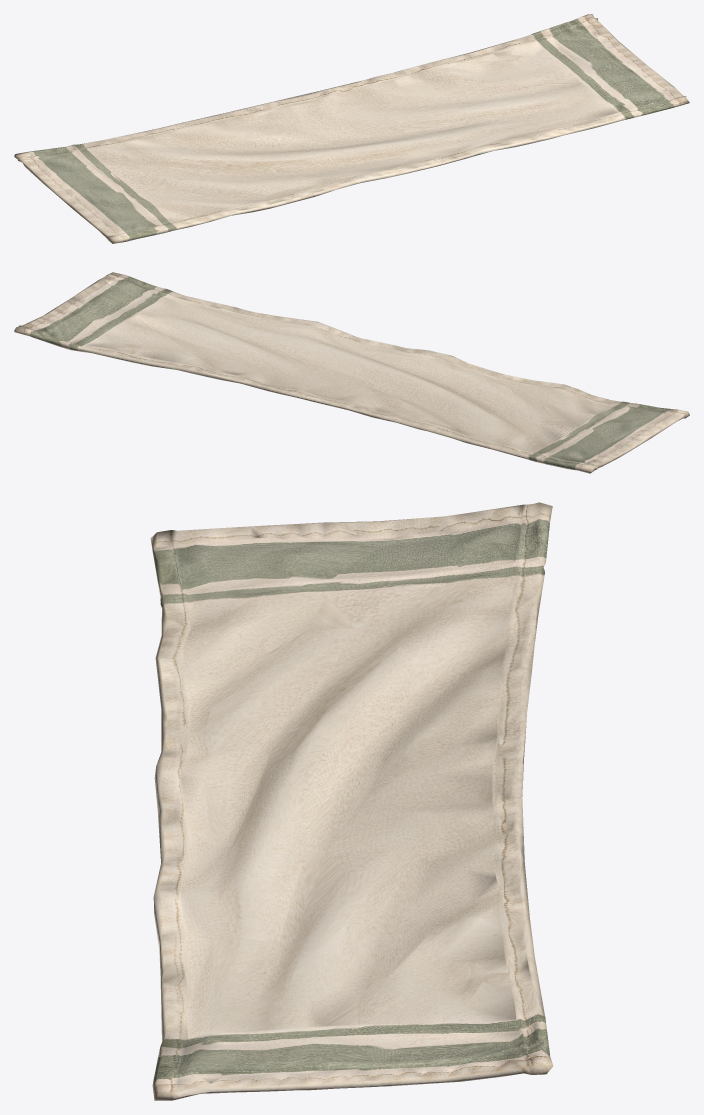
File: shade-panel-v1.glb
3 views of the same model, one above another, from view 1: azimuth 30°, elevation 25°; view 2: azimuth 150°, elevation 25°; view 3: azimuth 270°, elevation 25° (orthographic). The views are drawn at different scales.
Visible parts, largest first — view 1: tripo_node_cf18d350-cf17-49a6-b792-6ec16ebb6200; view 2: tripo_node_cf18d350-cf17-49a6-b792-6ec16ebb6200; view 3: tripo_node_cf18d350-cf17-49a6-b792-6ec16ebb6200.
Part boxes in pixels (x1,y1,x2,y2): tripo_node_cf18d350-cf17-49a6-b792-6ec16ebb6200: [14, 14, 689, 243]; tripo_node_cf18d350-cf17-49a6-b792-6ec16ebb6200: [14, 272, 689, 473]; tripo_node_cf18d350-cf17-49a6-b792-6ec16ebb6200: [150, 502, 553, 1100].
Size of the model in its own units: 2 by 0.0782 by 0.6014.
Materials: 1 (1 with a texture image).
